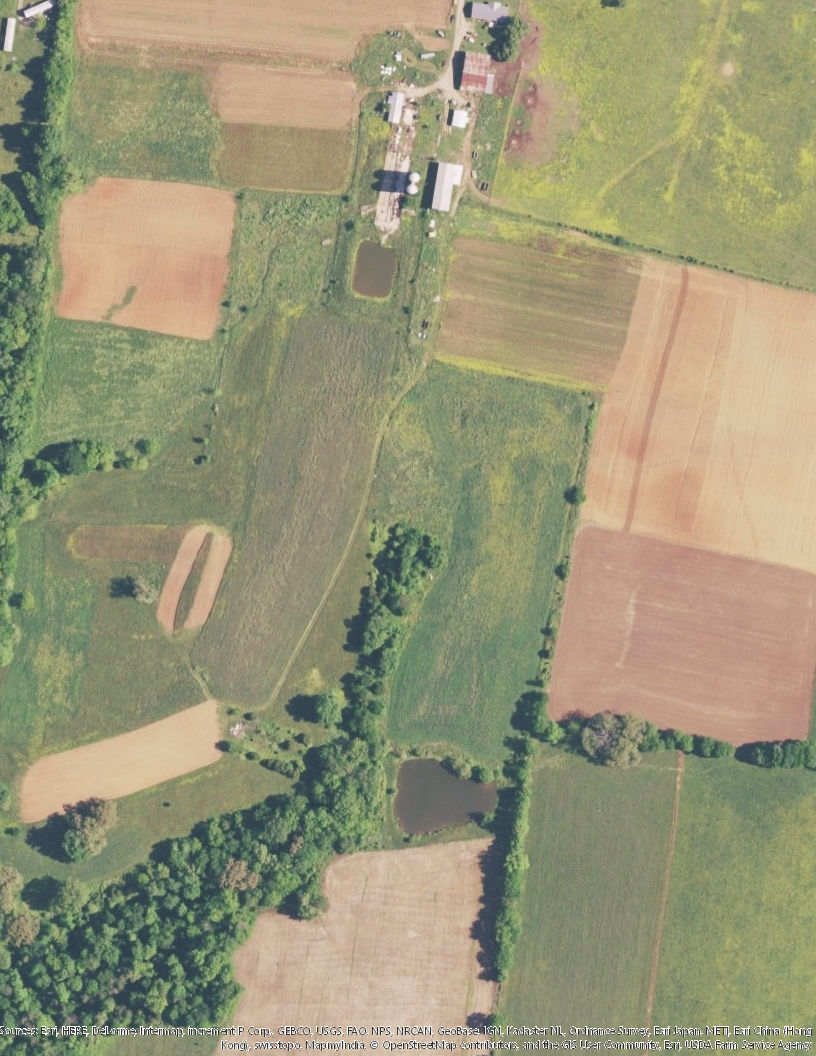cafo: (424, 160, 469, 215), (455, 48, 498, 98)
